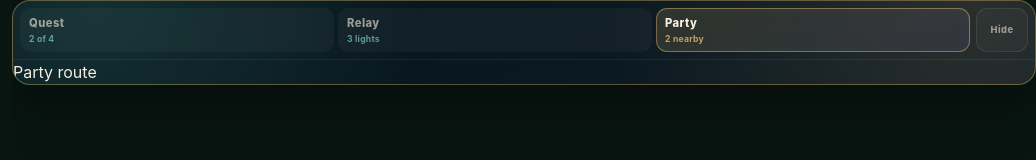
WorldActivityDock › collapses activity details and restores the selected panel
Click the button named "Hide activity details" at (1002, 30), box [976,8,1028,52]
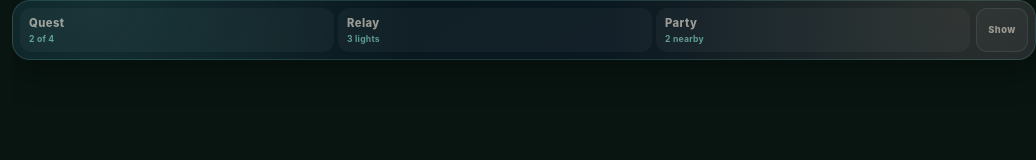
Check: the button named "Show activity details" is collapsed
Check: the text "Party route" is gone
Click the button named "Show activity details" at (1002, 30), box [976,8,1028,52]
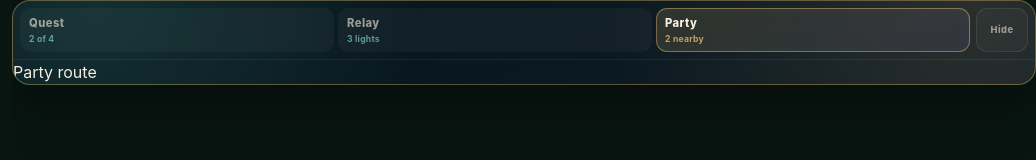
Check: the text "Party route" is shown, box [13,62,97,82]
